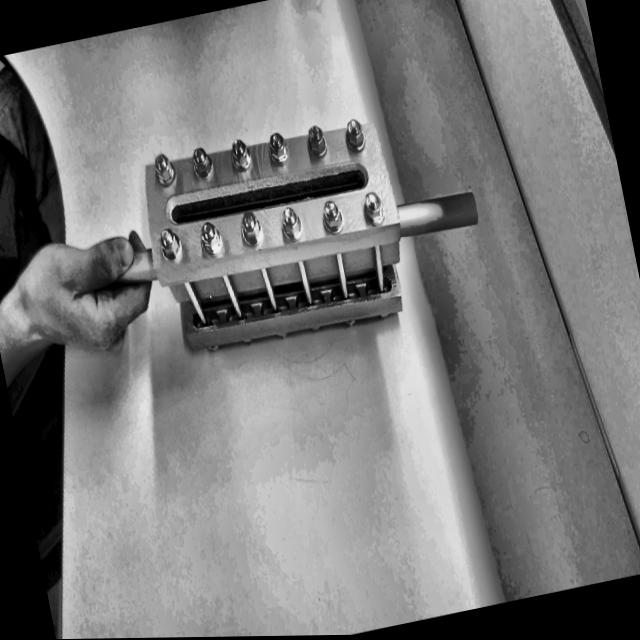ShuiWeiQi_12: (107, 49, 507, 405)
